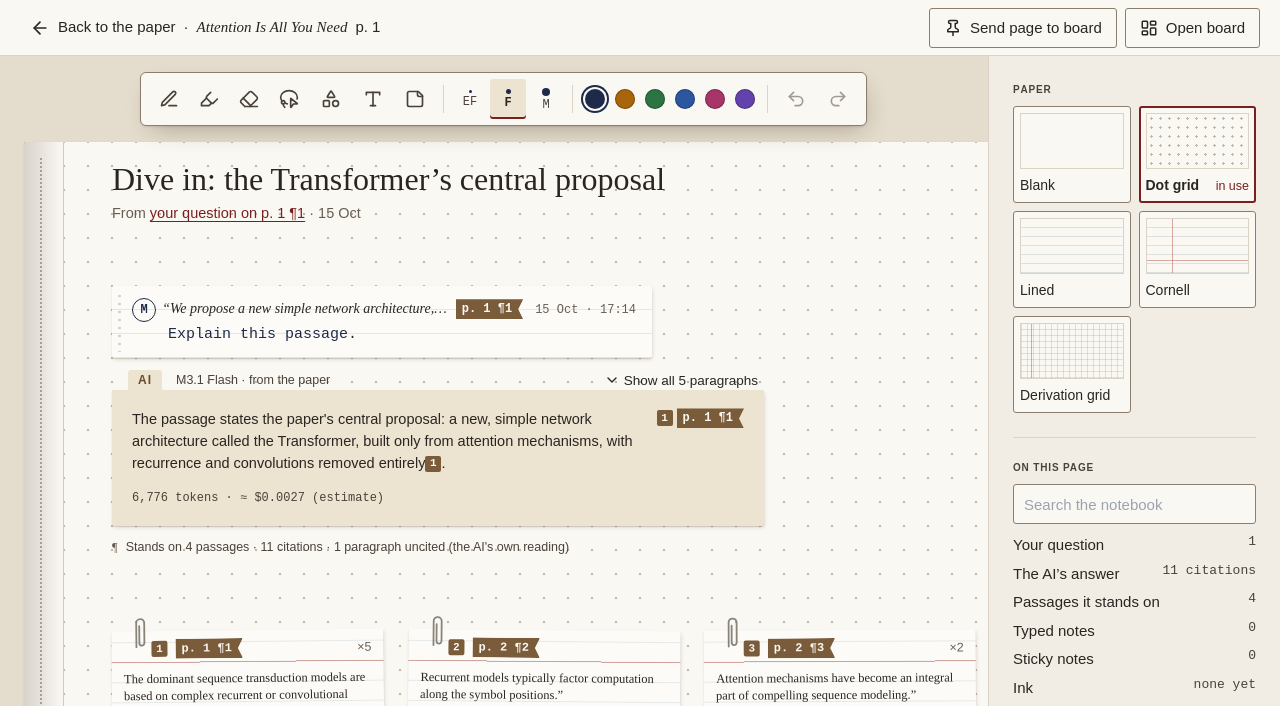
it: the exchange block › numbers quote cards as the answer numbers its markers
Click the button "Show all 5 paragraphs" at coordinates (681, 380), box [598,368,764,392]
(page scrolled)
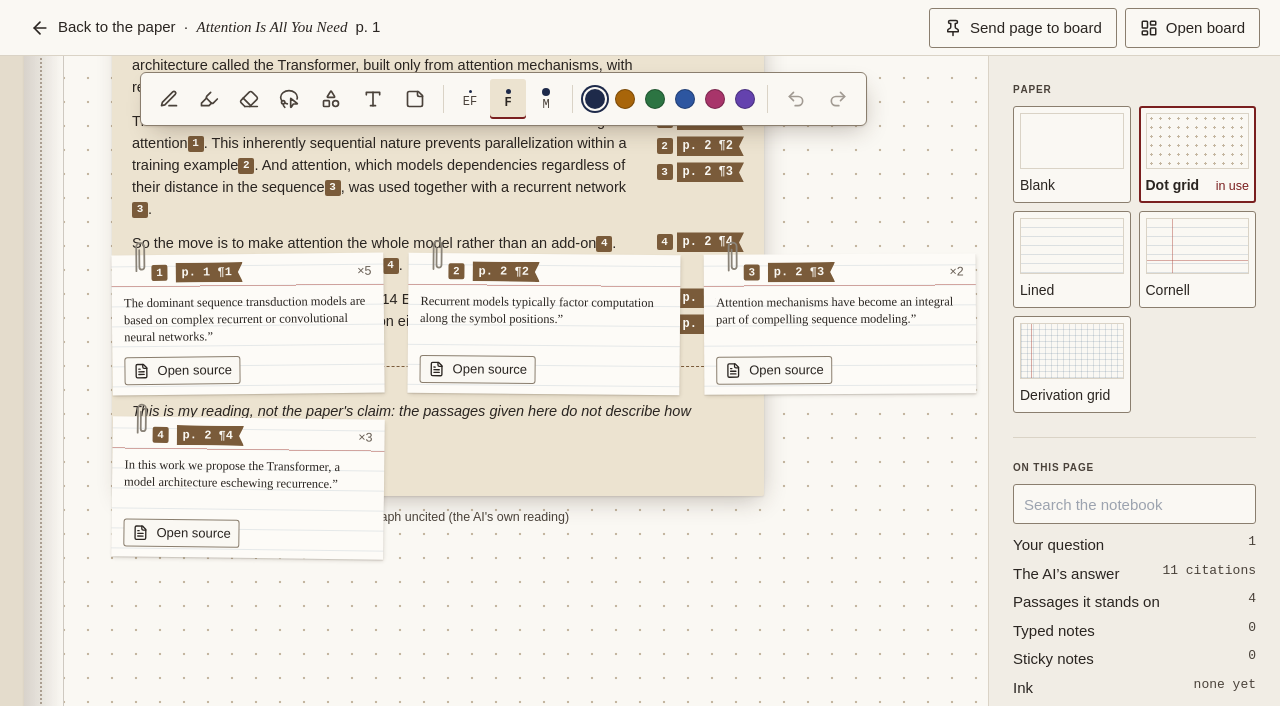
Expected: the button named "Passage 1, p. 1 ¶1" is shown, [151,265,168,281]
Expected: the heading "no citation · the AI's own reading" is shown, [132,380,328,394]
